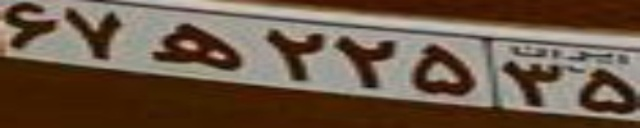2: (330, 35, 400, 88), (262, 27, 324, 83)
3: (500, 57, 566, 106)
5: (407, 41, 477, 95), (573, 64, 637, 116)
6: (3, 2, 57, 50)
7: (63, 6, 121, 60)
he: (149, 21, 243, 71)
